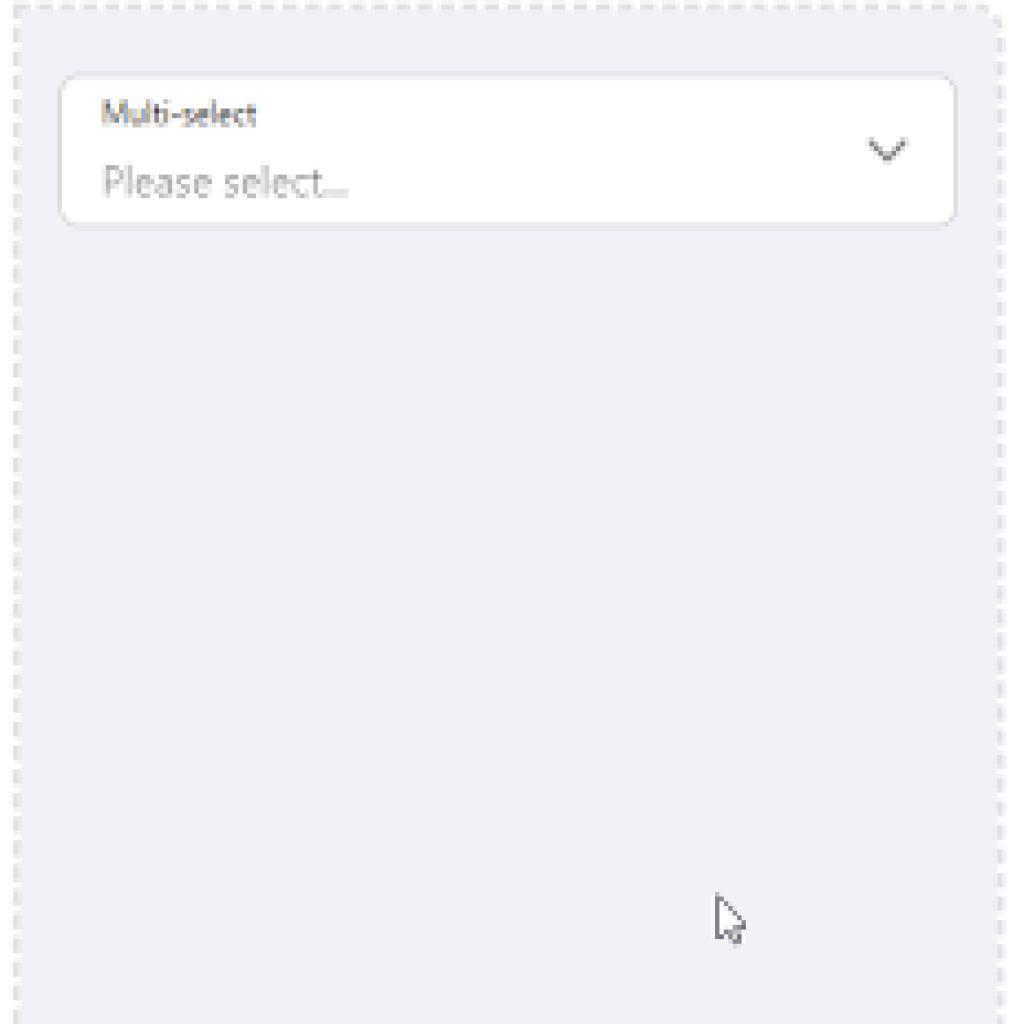dropdown: (57, 69, 959, 237)
